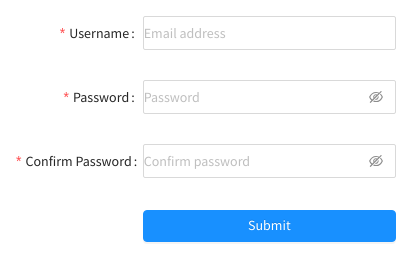
Test: should validate confirm password
In the field labelled "Username": (269,33) [144,17,395,49], type "admin@example.com"
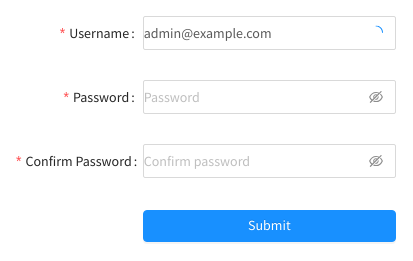
In the password field labelled "Password": (269,97) [144,81,395,113], type "Passw0rd!"
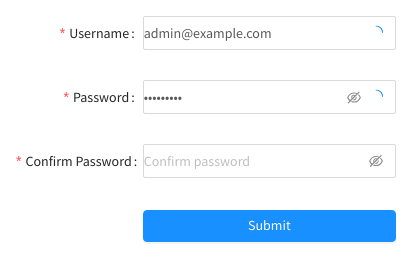
In the password field labelled "Confirm Password": (269,161) [144,145,395,177], type "Password"
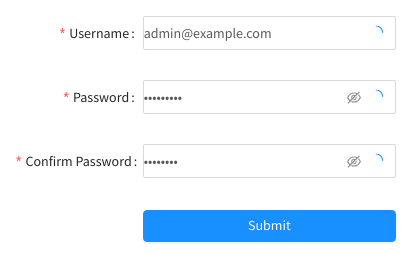
Click the button with test id "signUp-submit": (269,226) [143,210,396,242]
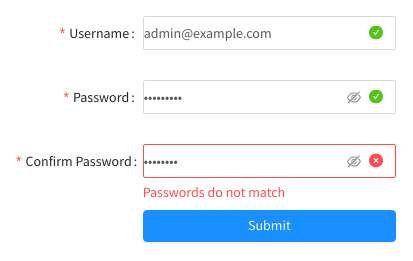
Now the text "Passwords do not match" is shown, box [143,183,285,201]
